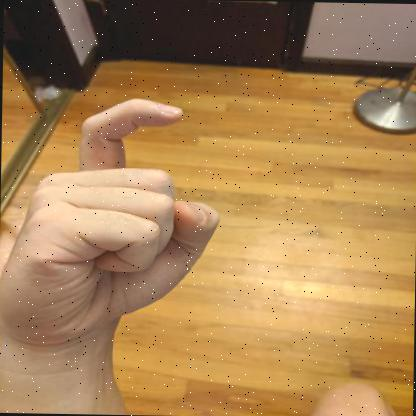X: (0, 98, 219, 347)
